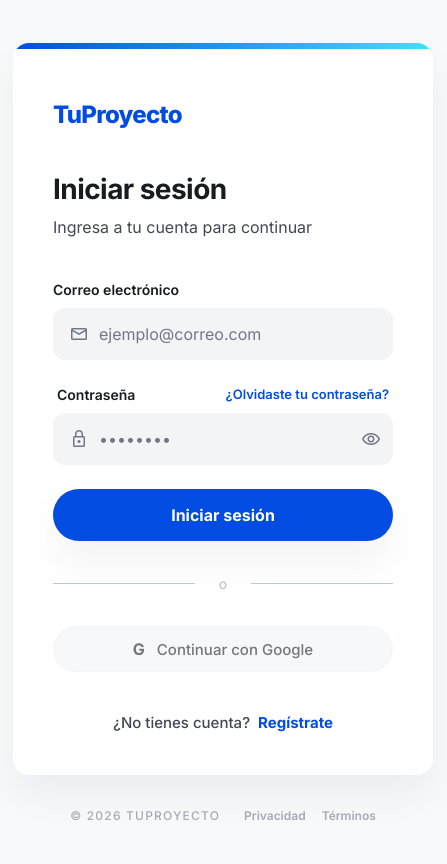
Scenario: LoginPage validacion › muestra errores cuando se envia el formulario vacio
The width and height of the screenshot is (447, 864).
Click the button "Iniciar sesión" at (223, 515), box 53,489 -> 393,541
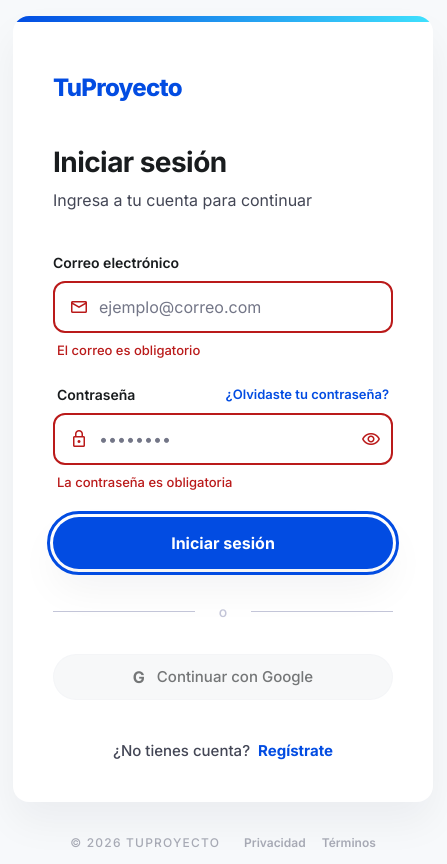
Result: the text "El correo es obligatorio" is shown at 57,342 -> 200,358
Result: the text "La contraseña es obligatoria" is shown at 57,474 -> 232,490
